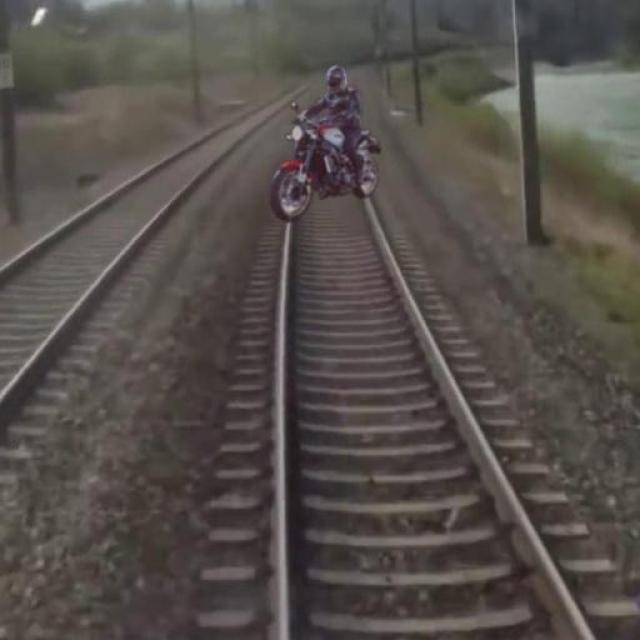vehicle: (260, 112, 398, 208)
